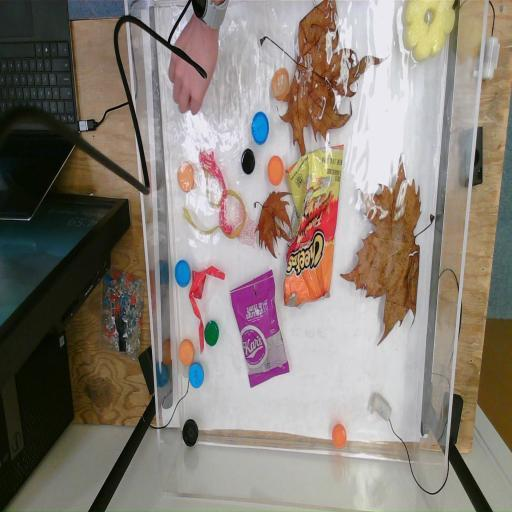Bottle Cap: (271, 68, 290, 100), (251, 112, 269, 144), (178, 162, 194, 194), (267, 156, 284, 186), (174, 260, 191, 288), (182, 418, 199, 446), (178, 338, 194, 366), (188, 362, 204, 388), (241, 148, 256, 175), (204, 320, 219, 346), (332, 424, 347, 448)
Cone Cap: (192, 270, 206, 296)
Leaf: (340, 156, 436, 343), (260, 0, 374, 153), (254, 190, 294, 258)
Netting: (199, 148, 233, 238), (232, 198, 258, 250)
Plastic Bag: (282, 145, 344, 307), (232, 272, 290, 388)
Plastic Strand: (184, 170, 246, 240), (189, 264, 226, 356)
Sponge: (402, 1, 456, 61)
